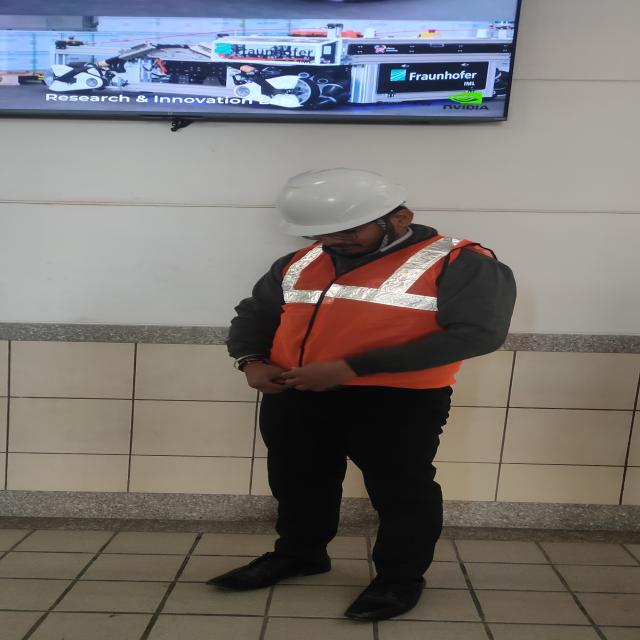safe: (210, 169, 513, 613)
